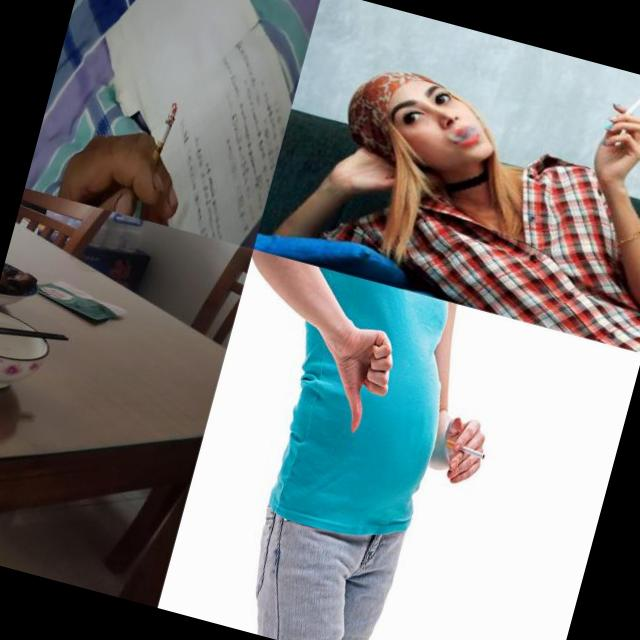smoke: (146, 100, 178, 176), (615, 84, 640, 127), (442, 438, 487, 461)
